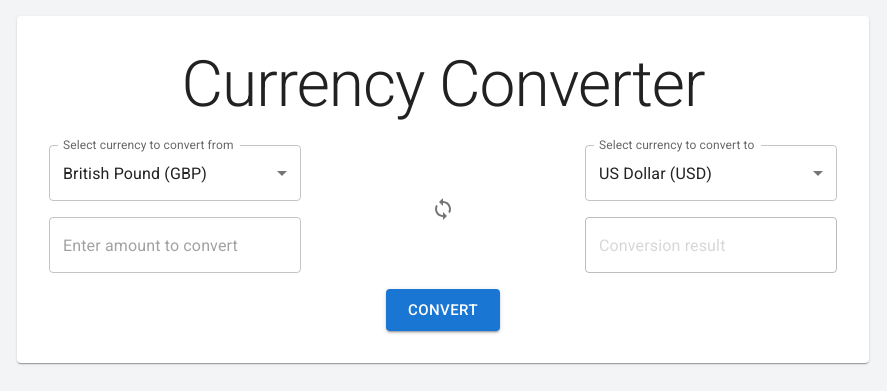
it: CurrencyConverter › renders currency dropdowns with correct options
The width and height of the screenshot is (887, 391).
Check: the dropdown "US Dollar (USD)" is shown, box [599,164,712,183]
Press the mouse on the dropdown named "Select currency to convert from" at (135, 173), box [63,164,207,183]
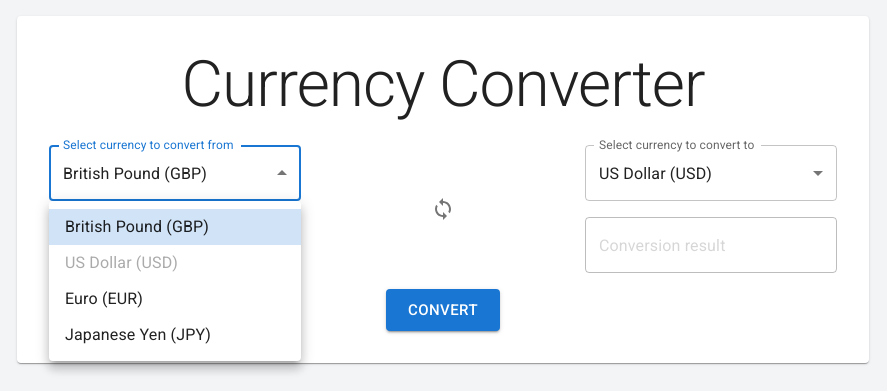
Check: the option "Euro (EUR)" is shown, box [65,289,143,308]
